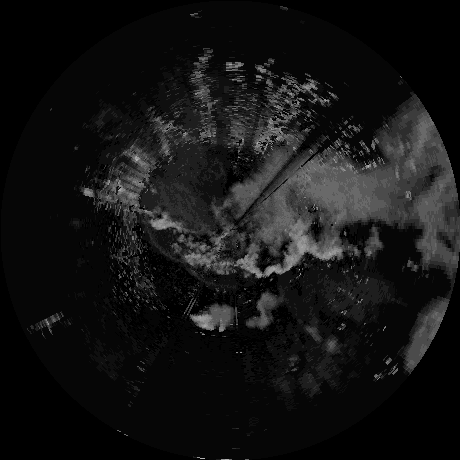frontgust: (142, 217, 176, 261), (184, 264, 214, 285)
